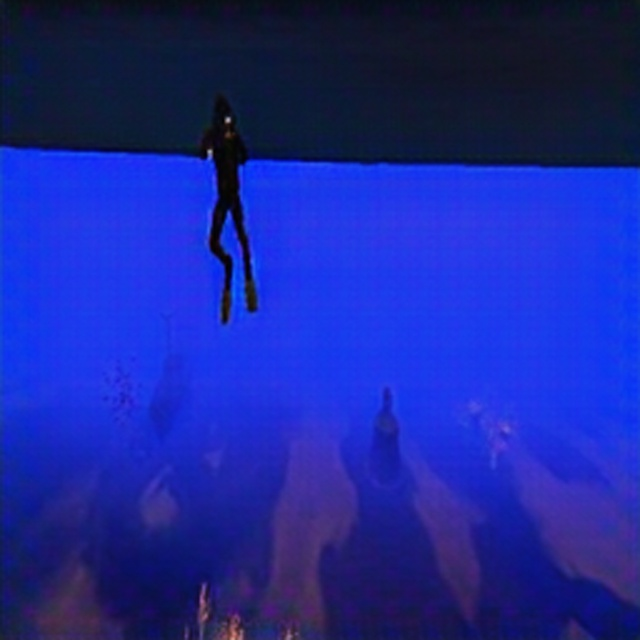diver: (192, 92, 269, 327)
